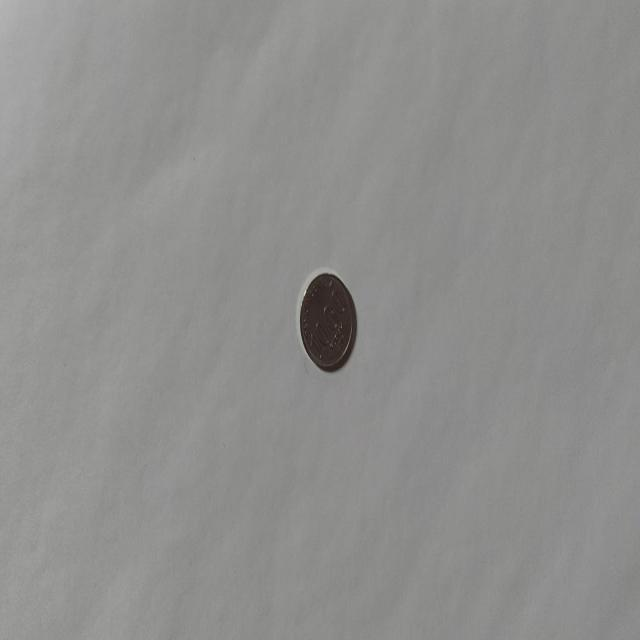seribu rupiah koin: (296, 268, 356, 372)
